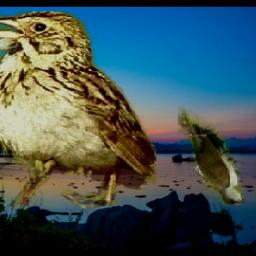Cuckoo: (178, 99, 244, 205)
Sparrow: (0, 11, 158, 209)
